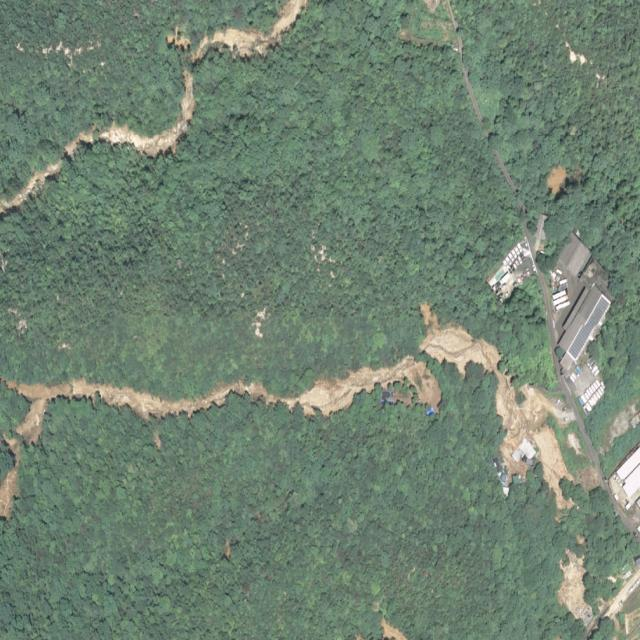landslide: (5, 356, 442, 446), (420, 304, 576, 511), (62, 69, 195, 157), (190, 0, 307, 62), (0, 161, 61, 215), (559, 550, 597, 634), (0, 439, 19, 518)
